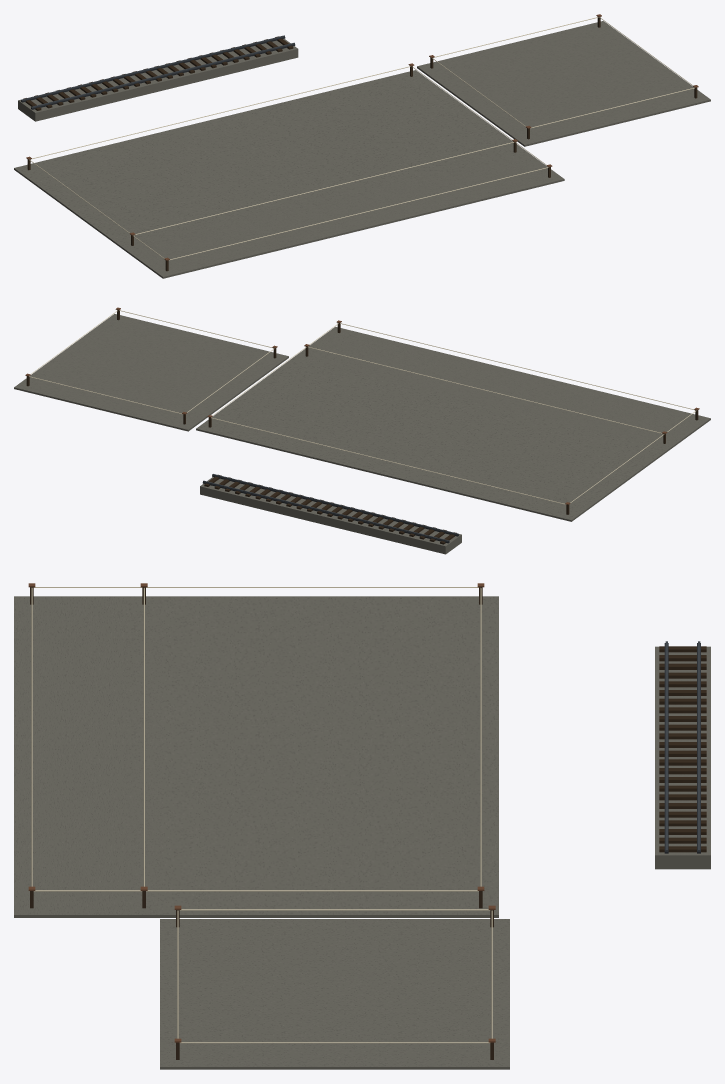
The model's file is fun-3-site.glb.
3 renders of one model, top to bottom at view 1: azimuth 30°, elevation 25°; view 2: azimuth 150°, elevation 25°; view 3: azimuth 270°, elevation 25°, orthographic. The views are drawn at different scales.
Size of the model in its own units: 49.6 by 1.41 by 31.05.
8 materials, 3 textured.
